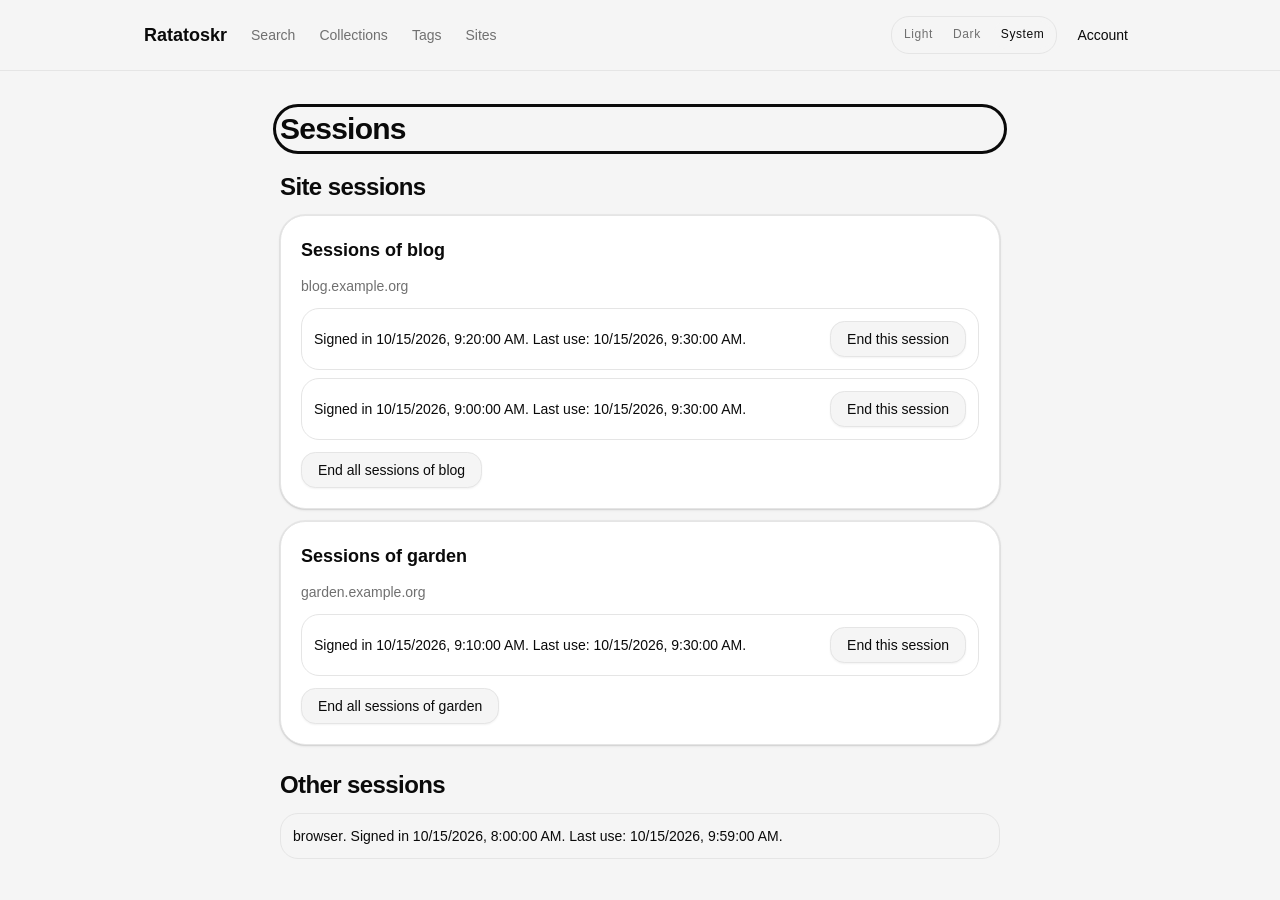
Test: two revocations and the end of a group › two_revocations_keep_their_own_pending
Click the button "End all sessions of blog".
click(392, 470)  # box [301,452,482,488]
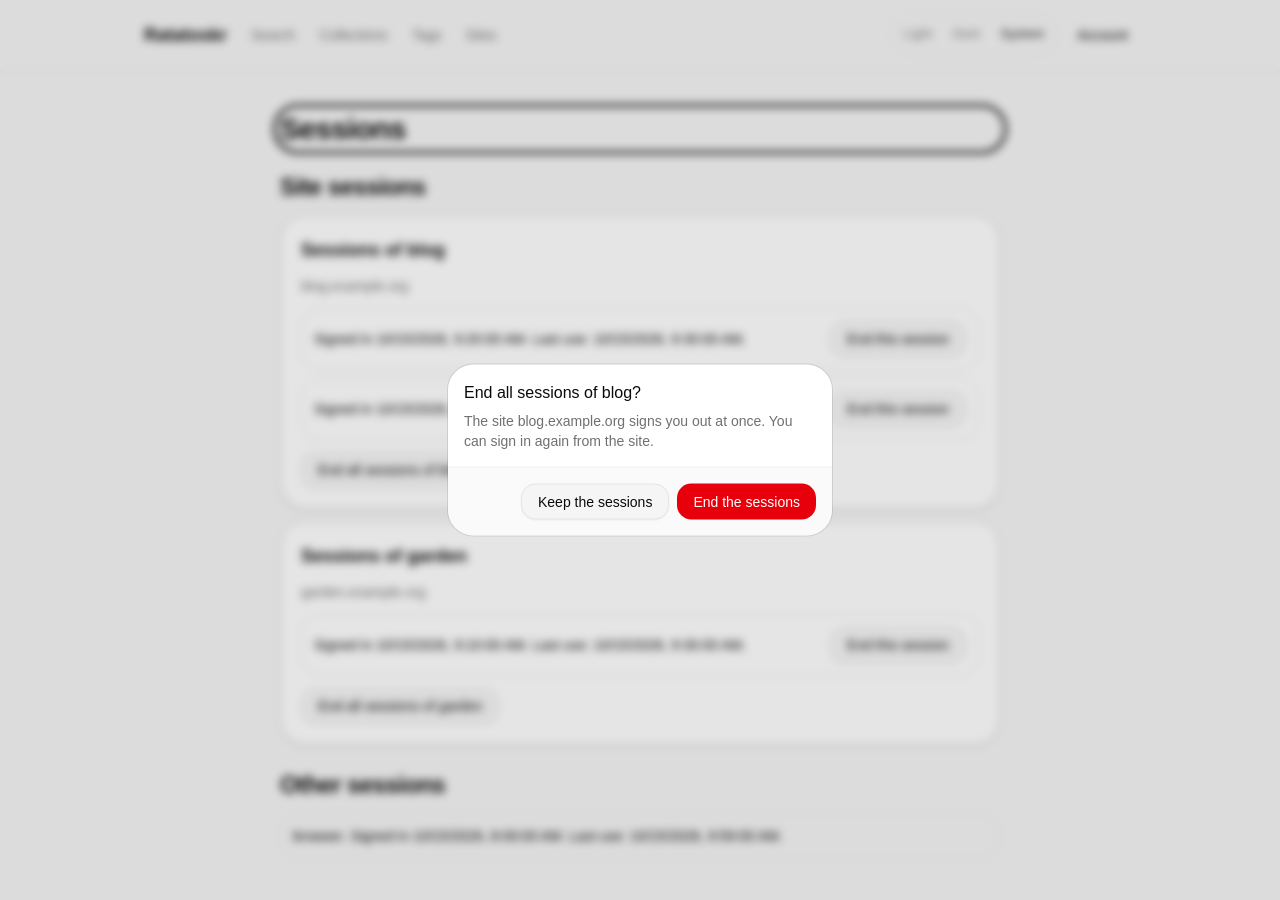
Click the button "End the sessions".
click(747, 502)  # box [677,484,816,520]
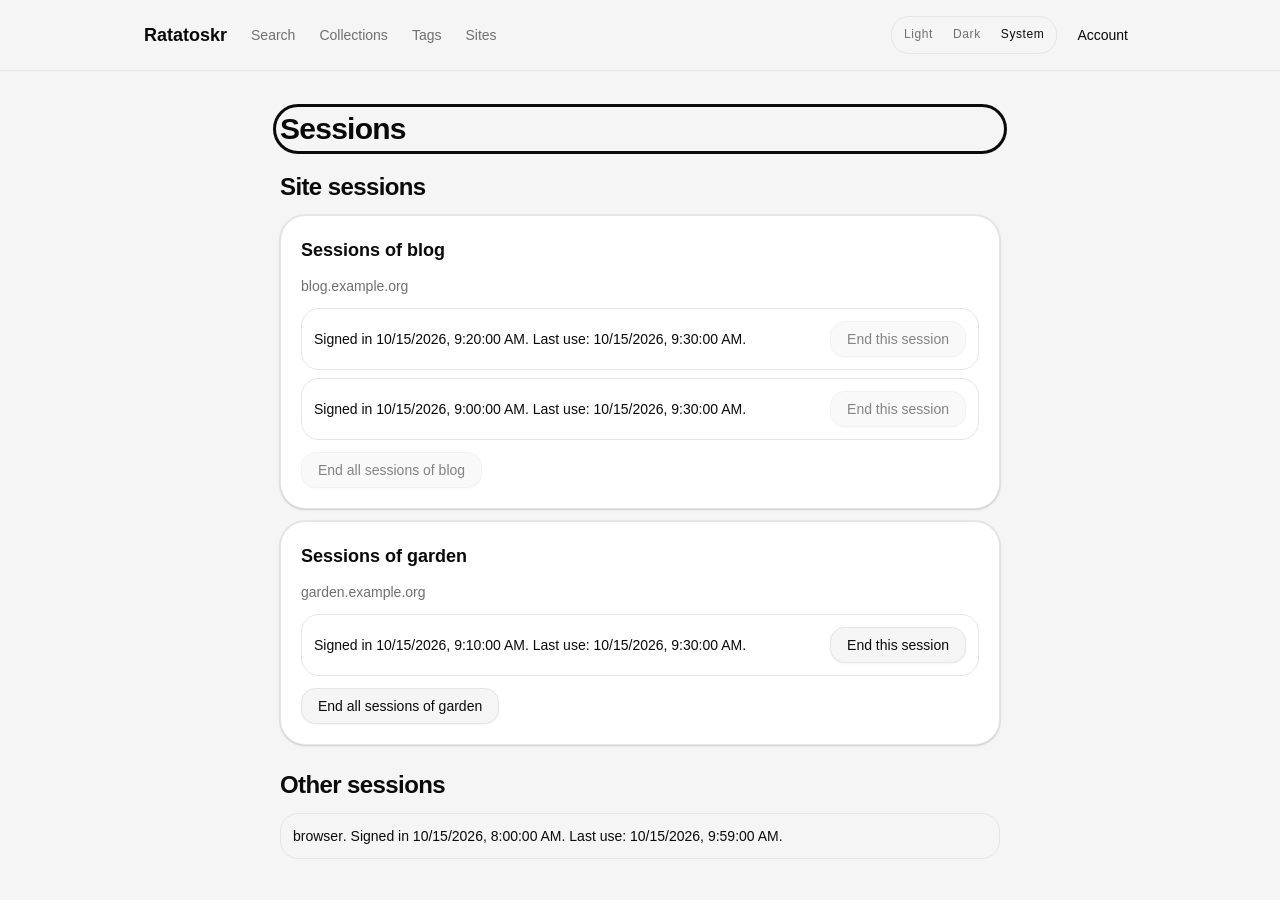
Click the button "End this session" in the row of "10/15/2026, 9:10:00 AM".
click(898, 645)  # box [830,627,966,663]
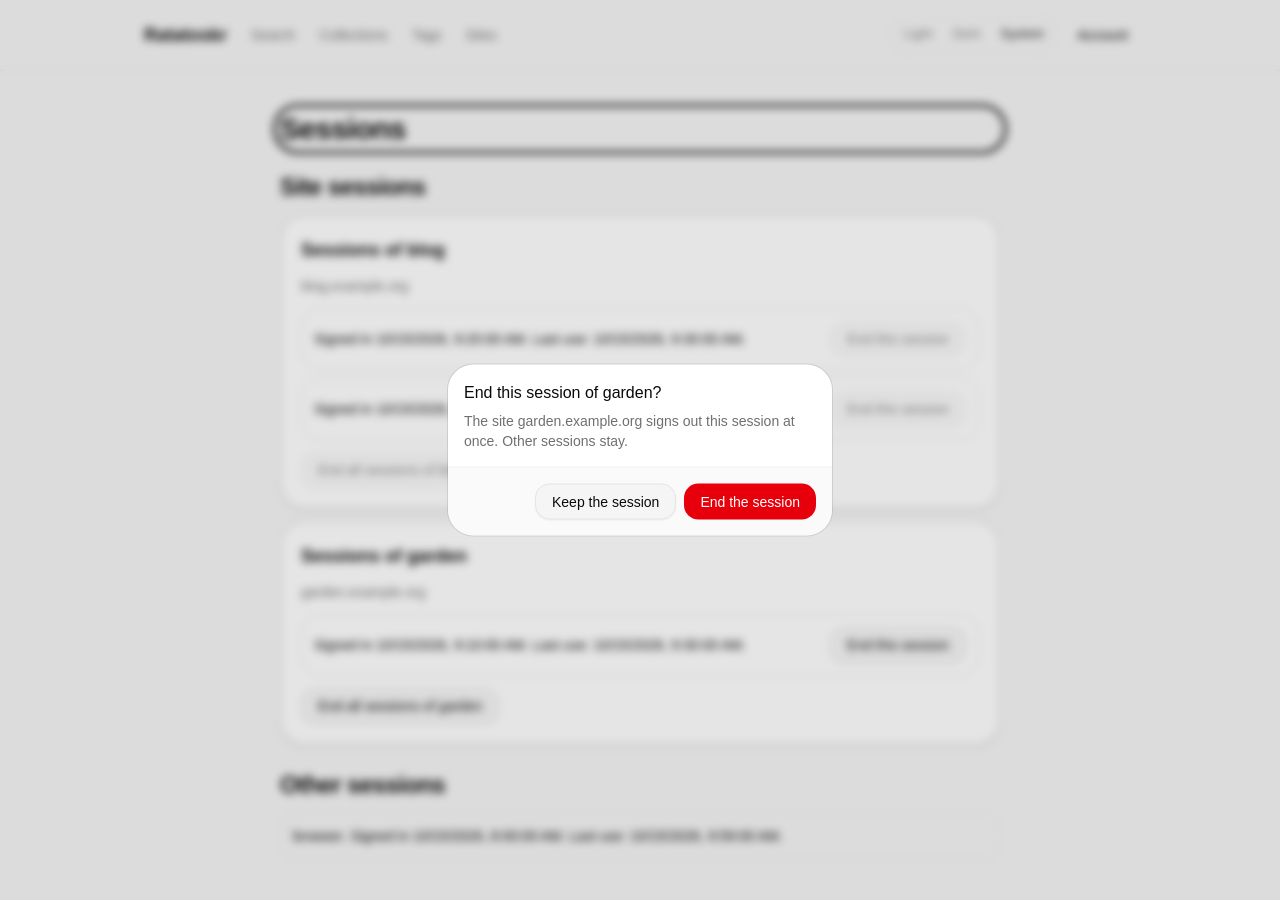
Click the button "End the session".
click(750, 502)  # box [684,484,816,520]
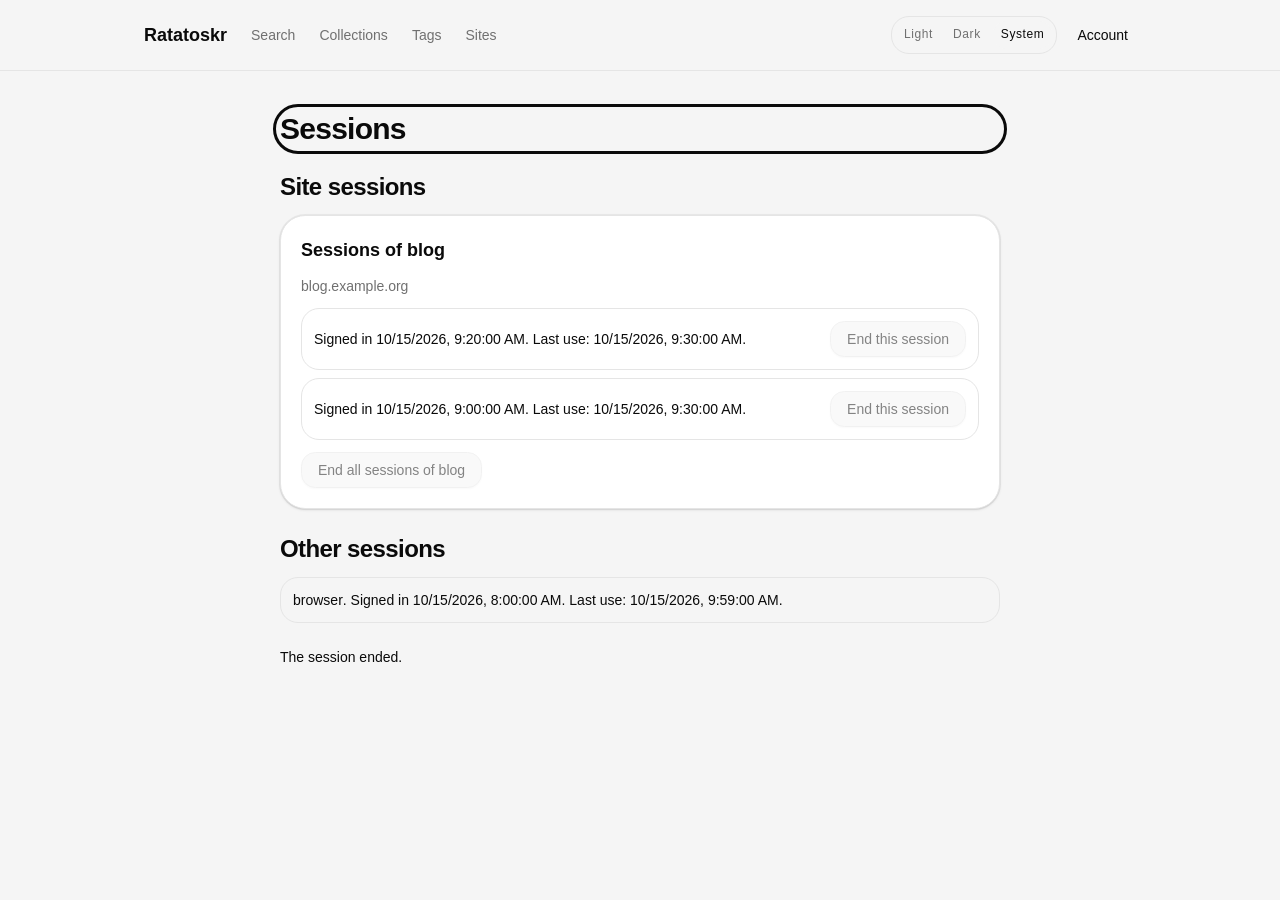
Expected: the button "End all sessions of blog" is disabled, [301,452,482,488]
Expected: the text "The session ended." is shown, [280,649,402,665]
